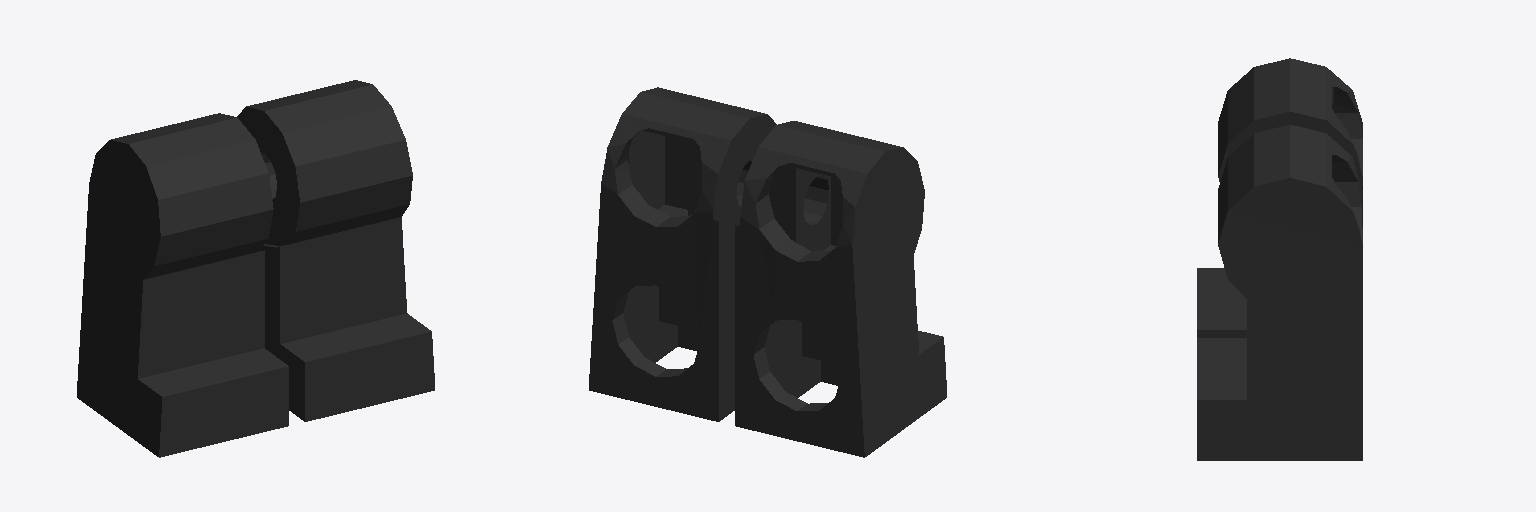
File: piernasLego.obj
3 renders of one model, left to right at view 1: azimuth 30°, elevation 25°; view 2: azimuth 150°, elevation 25°; view 3: azimuth 270°, elevation 25°, orthographic.
Visible parts, largest first — view 1: polySurface2_cloud_luke_Inst3D, cloud_luke_Inst3D_polySurface3; view 2: polySurface2_cloud_luke_Inst3D, cloud_luke_Inst3D_polySurface3; view 3: cloud_luke_Inst3D_polySurface3, polySurface2_cloud_luke_Inst3D.
Part boxes in pixels (x1,y1,x2,y2): polySurface2_cloud_luke_Inst3D: (77,113,288,457); cloud_luke_Inst3D_polySurface3: (237,80,434,421); polySurface2_cloud_luke_Inst3D: (735,121,946,457); cloud_luke_Inst3D_polySurface3: (589,87,776,421); cloud_luke_Inst3D_polySurface3: (1197,125,1362,460); polySurface2_cloud_luke_Inst3D: (1197,58,1362,337).
Bounding box in the file's own units: 8.55 × 8.16 × 4.43.